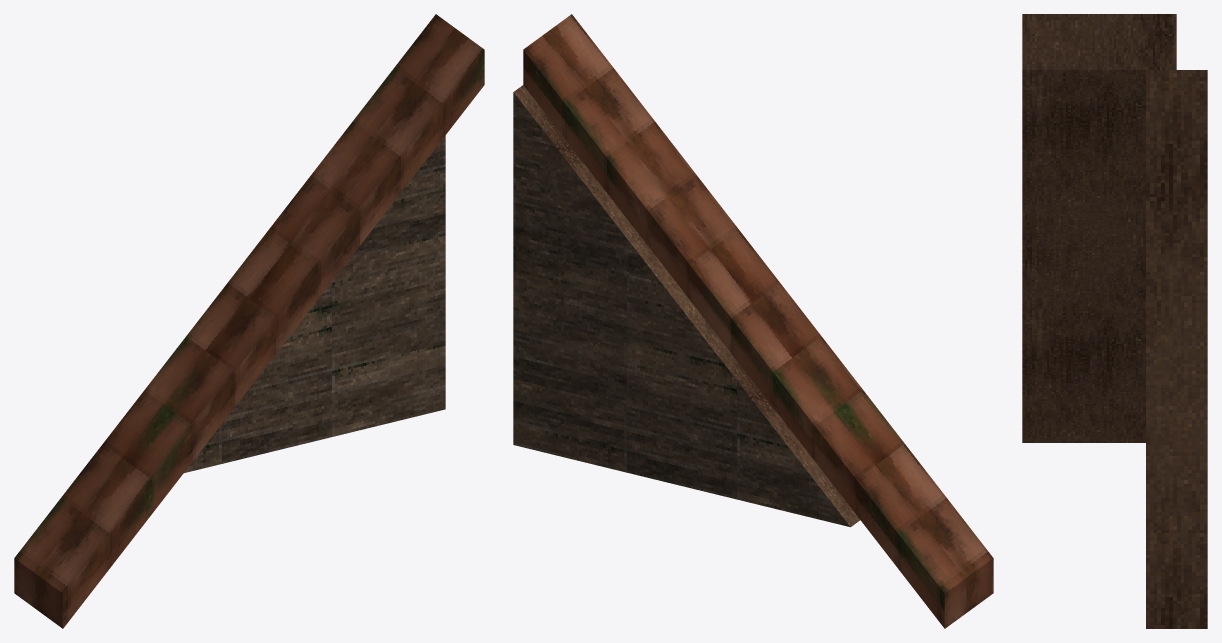
Rendered from roof_01_R.glb.
The picture shows the model from 3 angles, left to right: view 1: azimuth 30°, elevation 25°; view 2: azimuth 150°, elevation 25°; view 3: azimuth 270°, elevation 25°; orthographic projection. The views are drawn at different scales.
Visible parts, largest first — view 1: roof_01_R2; view 2: roof_01_R2; view 3: roof_01_R2.
Boxes of the visible parts, x1,y1,x2,y2 form: roof_01_R2: [14, 14, 484, 628]; roof_01_R2: [513, 14, 993, 628]; roof_01_R2: [1022, 14, 1207, 628].
Size of the model in its own units: 2.5 by 2.7 by 0.6.
Materials: 1 (1 with a texture image).
